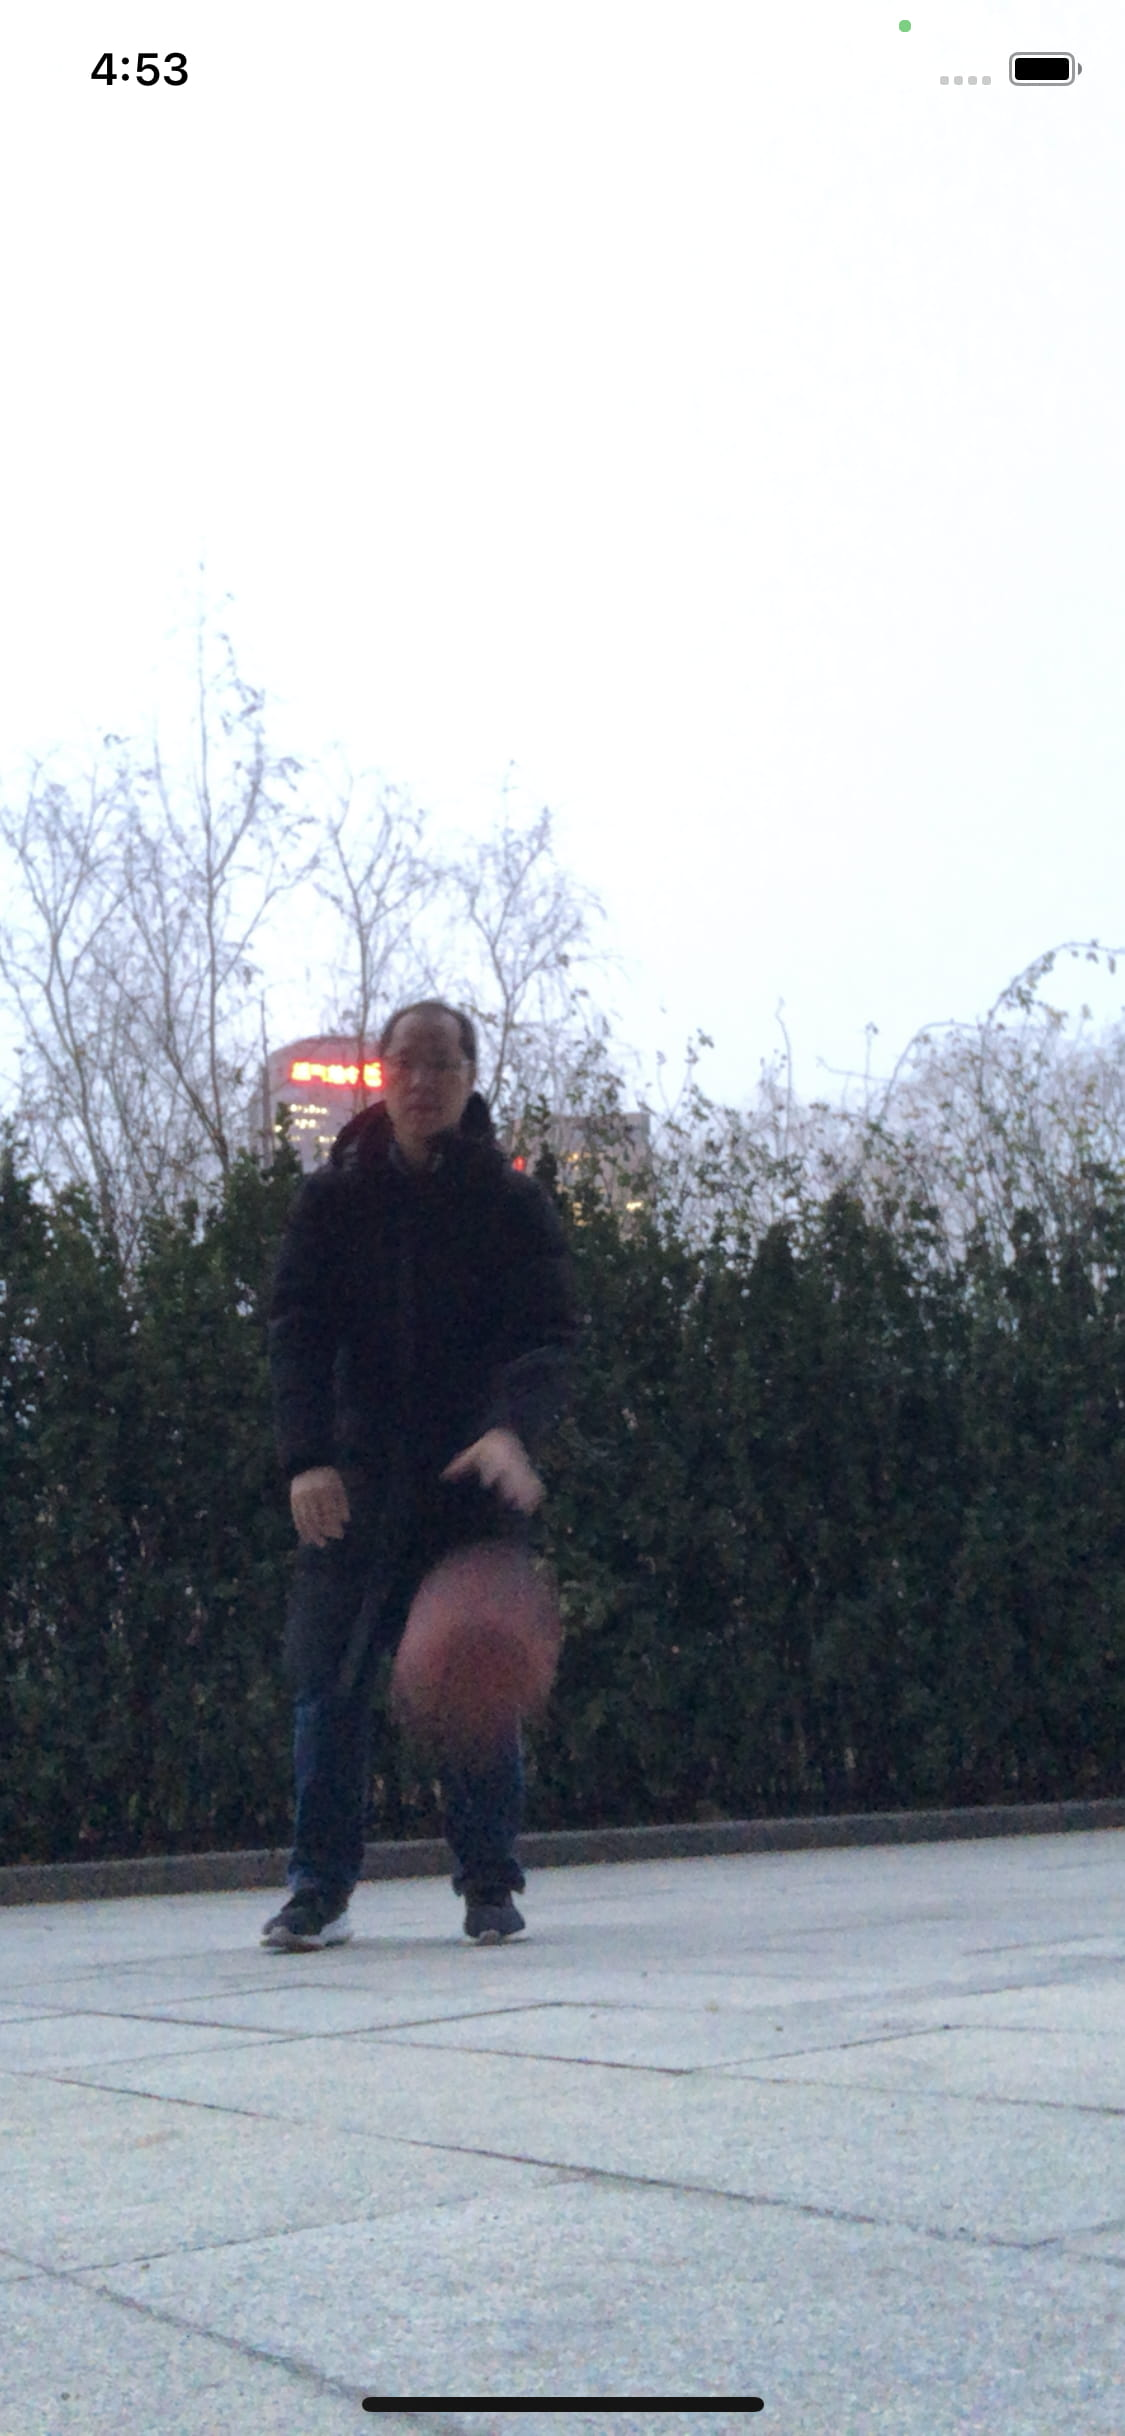ball: (396, 1549, 556, 1735)
